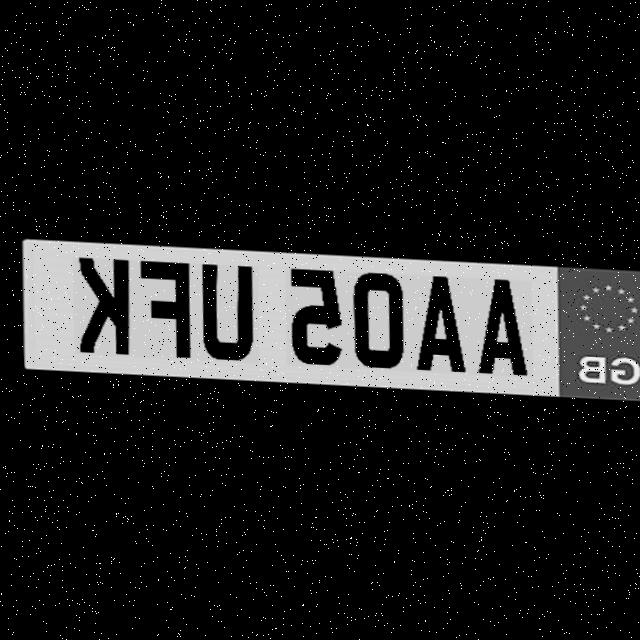license-plates: (20, 237, 640, 400)
